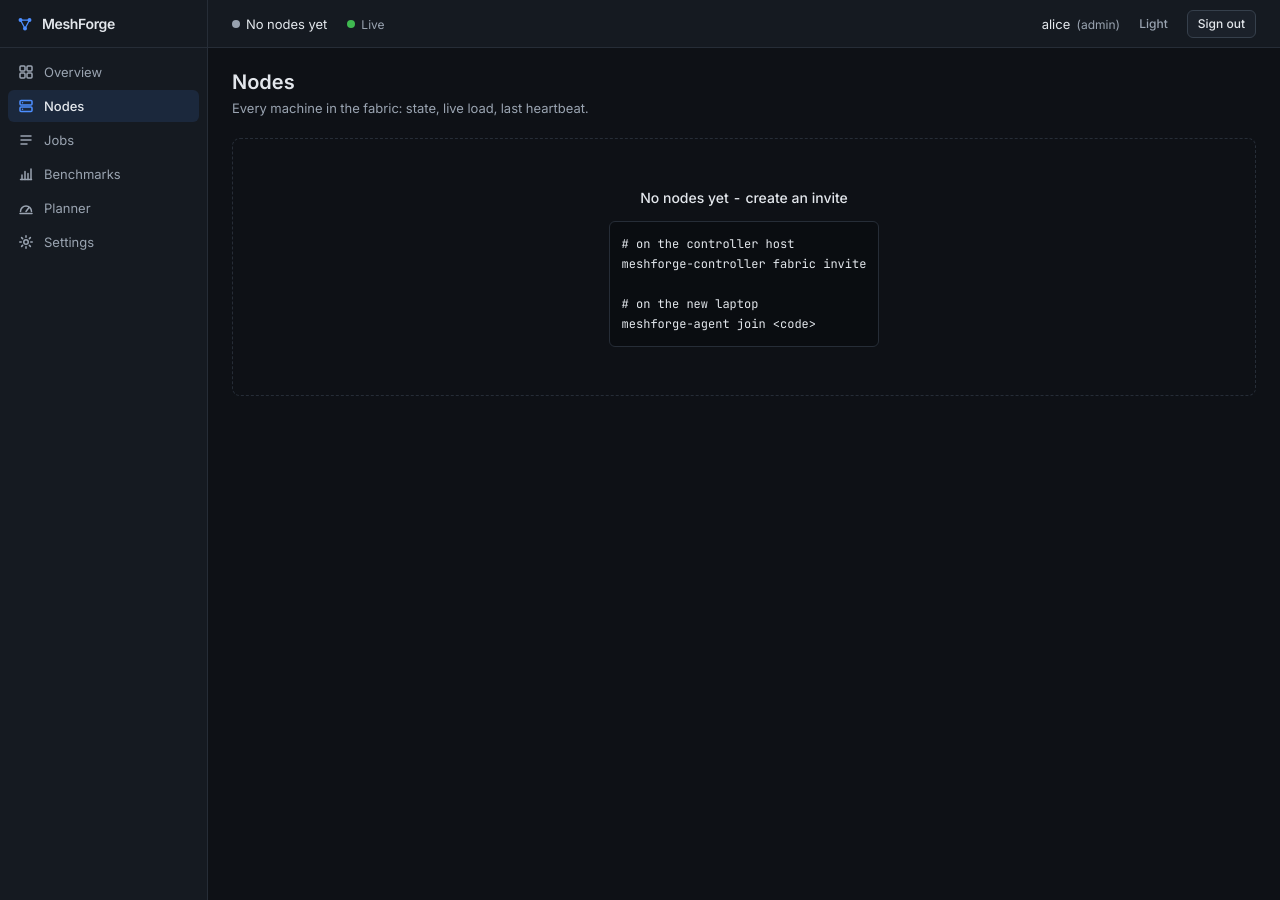
Scenario: T2: sign-out race › 4401 landing BEFORE the DELETE answer is still 'signed out', not 'session ended'
Expected: the element with test id "current-user" is shown, x1=1042 y1=14 x2=1120 y2=34
Click the button "Sign out" at (1221, 24), box x1=1187 y1=10 x2=1256 y2=38
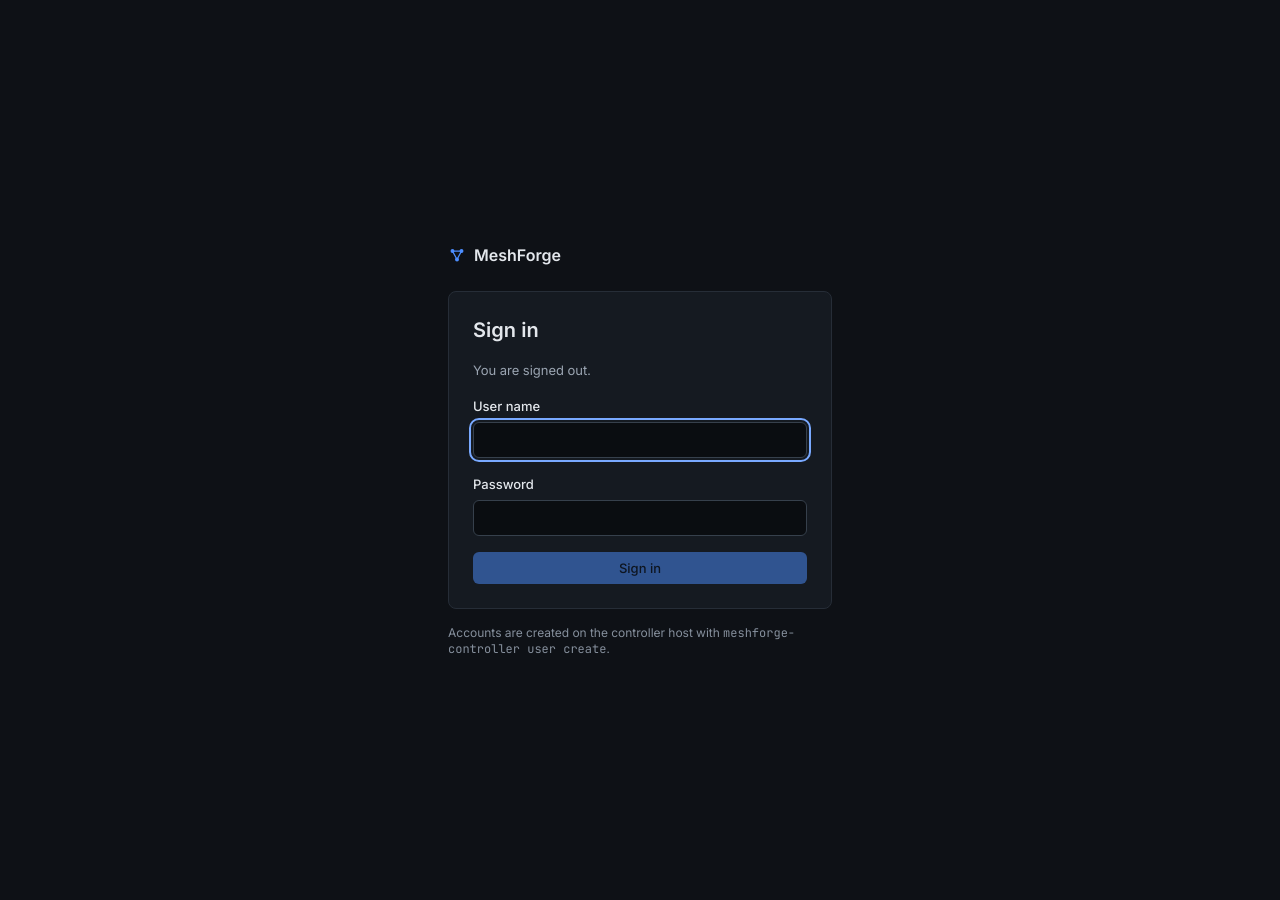
Now the text "You are signed out." is shown, box x1=473 y1=362 x2=591 y2=378
